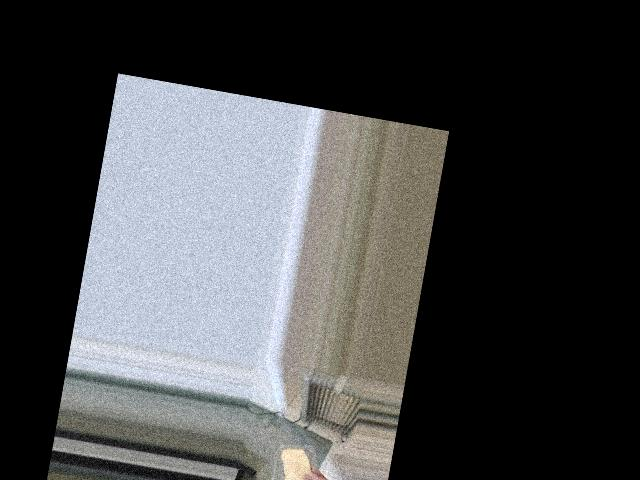cheese: (268, 438, 323, 480)
